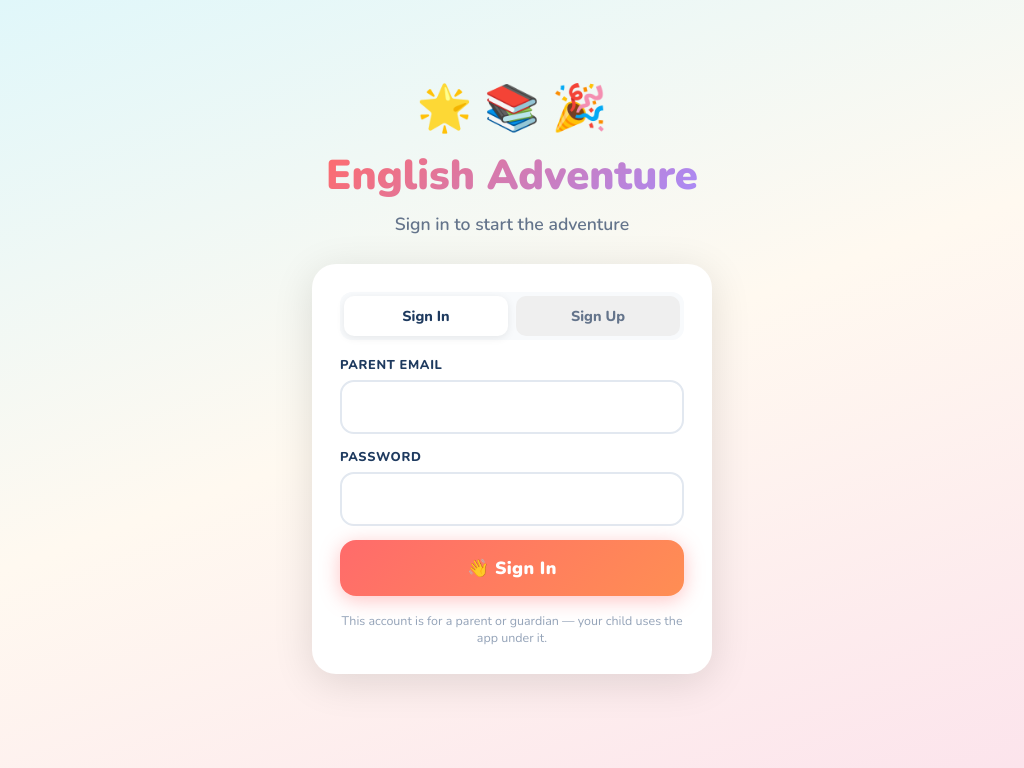
Scenario: AuthScreen › submits email and password to signUp and shows the check-email state
Click the button "Sign Up" at (598,316), box [516,296,680,336]
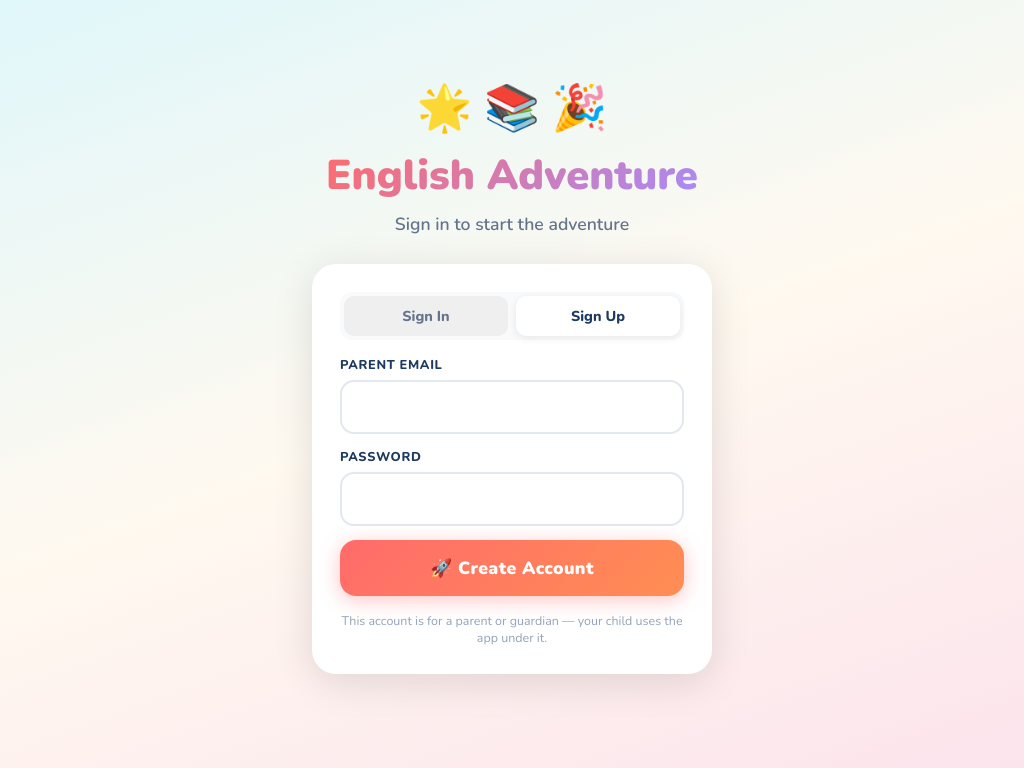
Type "a@b.com" into the field labelled "Parent Email" at (512,406), box [340,380,684,434]
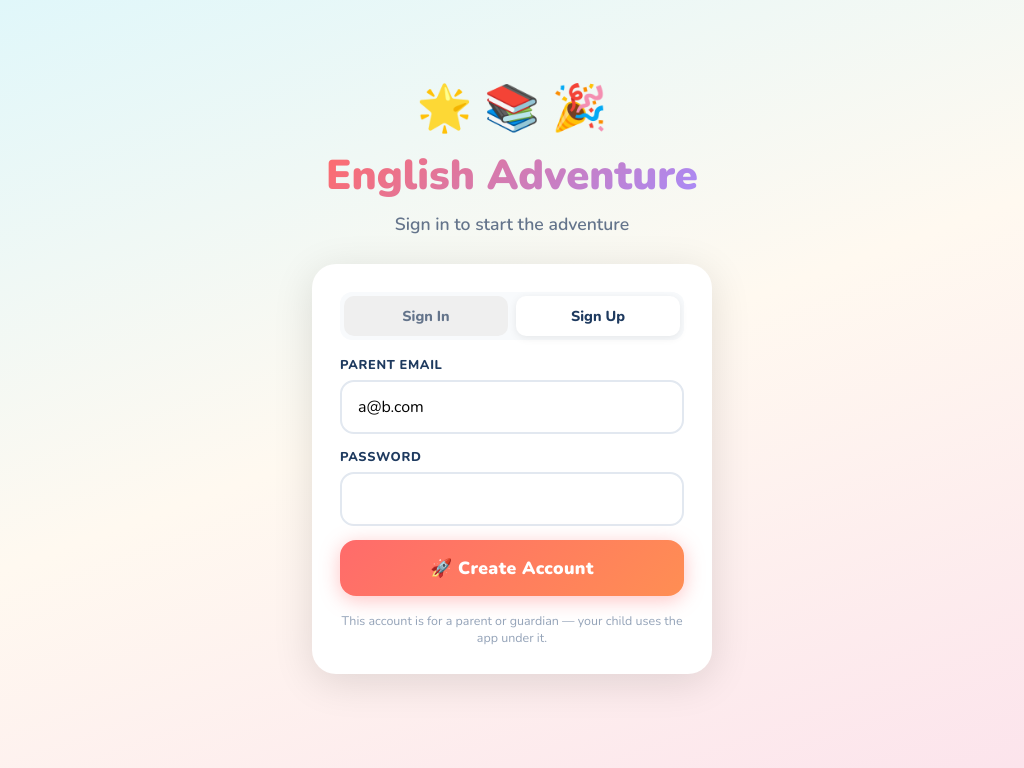
Type "secret123" into the password field labelled "Password" at (512,498), box [340,472,684,526]
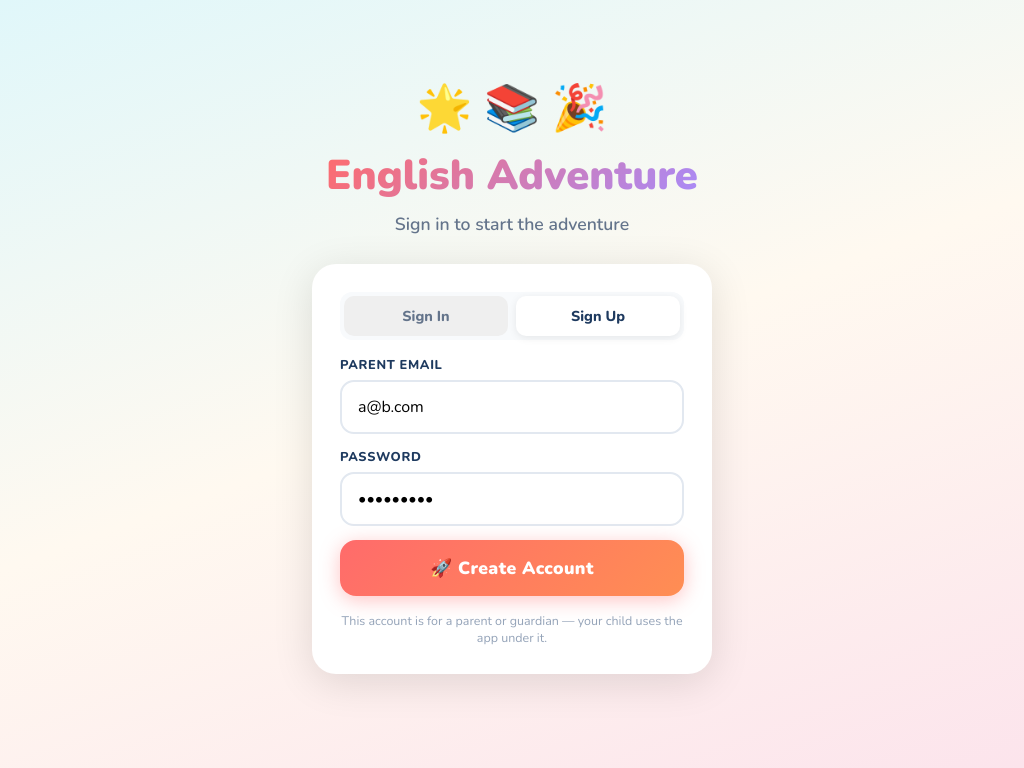
Click the button "🚀 Create Account" at (512,568), box [340,540,684,596]
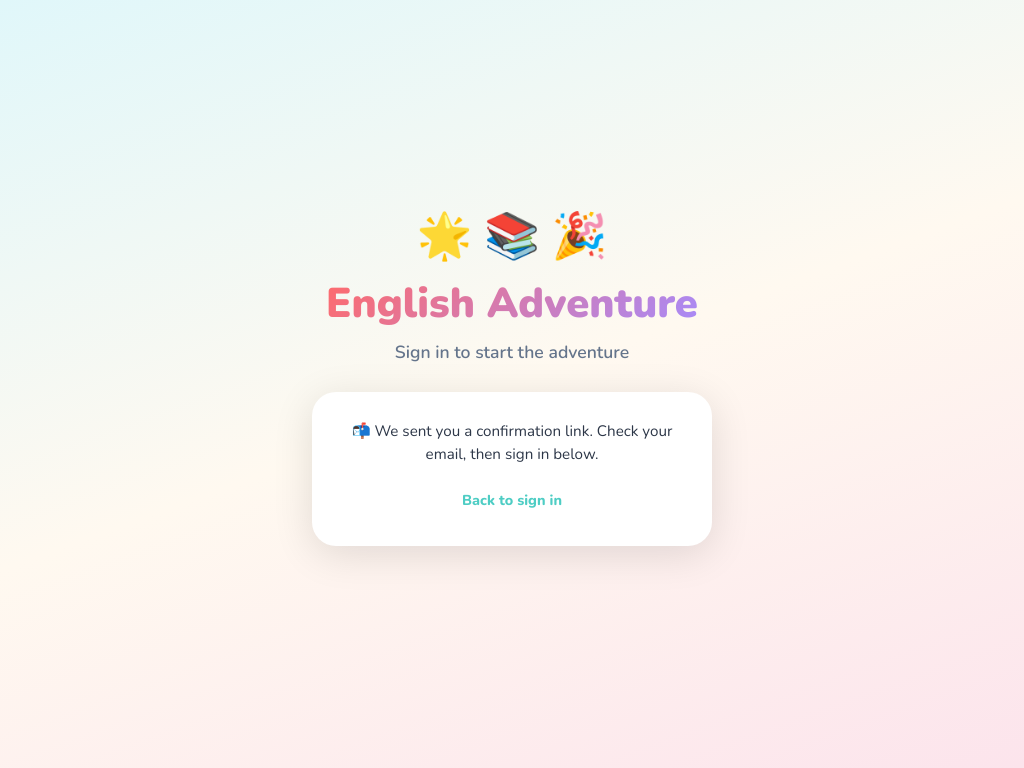
Check: the text "We sent you a confirmation link" is shown, box [352,421,672,464]
